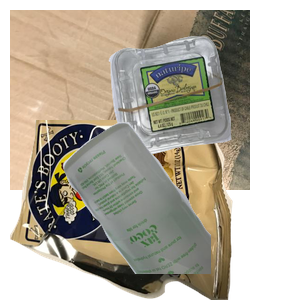cardboard: (10, 10, 250, 190)
glass: (60, 120, 300, 300)
plastic: (106, 34, 300, 183)
trash: (10, 120, 235, 300)
